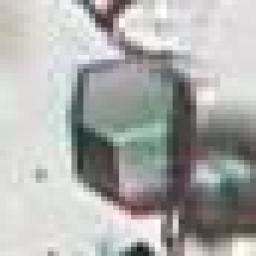crystals: (69, 51, 198, 222)
